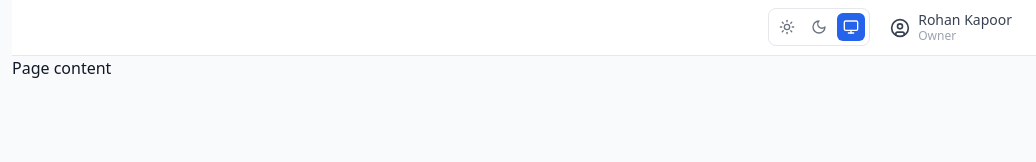
Test: Header account menu › closes when the user clicks or taps anywhere outside it
Click the button with aria-label "Account menu".
click(951, 28)  # box [882,5,1020,50]
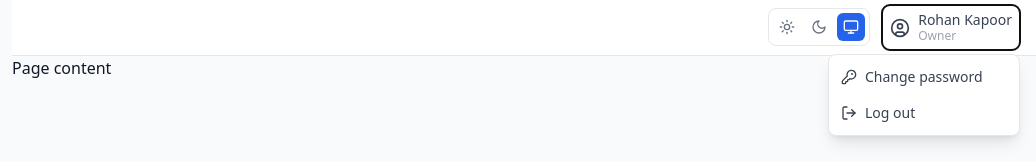
Click the text "Page content".
click(62, 68)  # box [12,57,111,79]
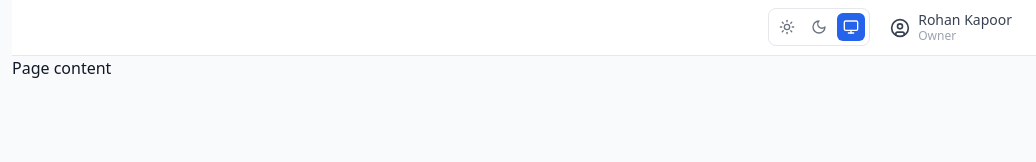
Result: the button "Log out" is gone
